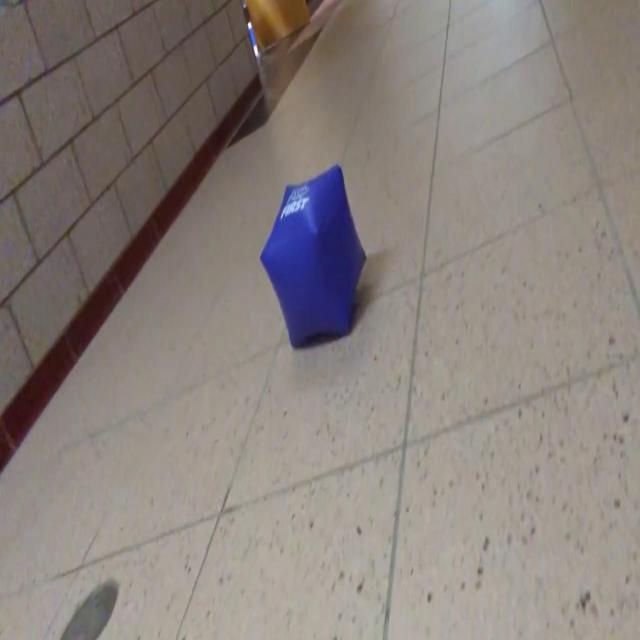frc_cube: (260, 165, 366, 348)
